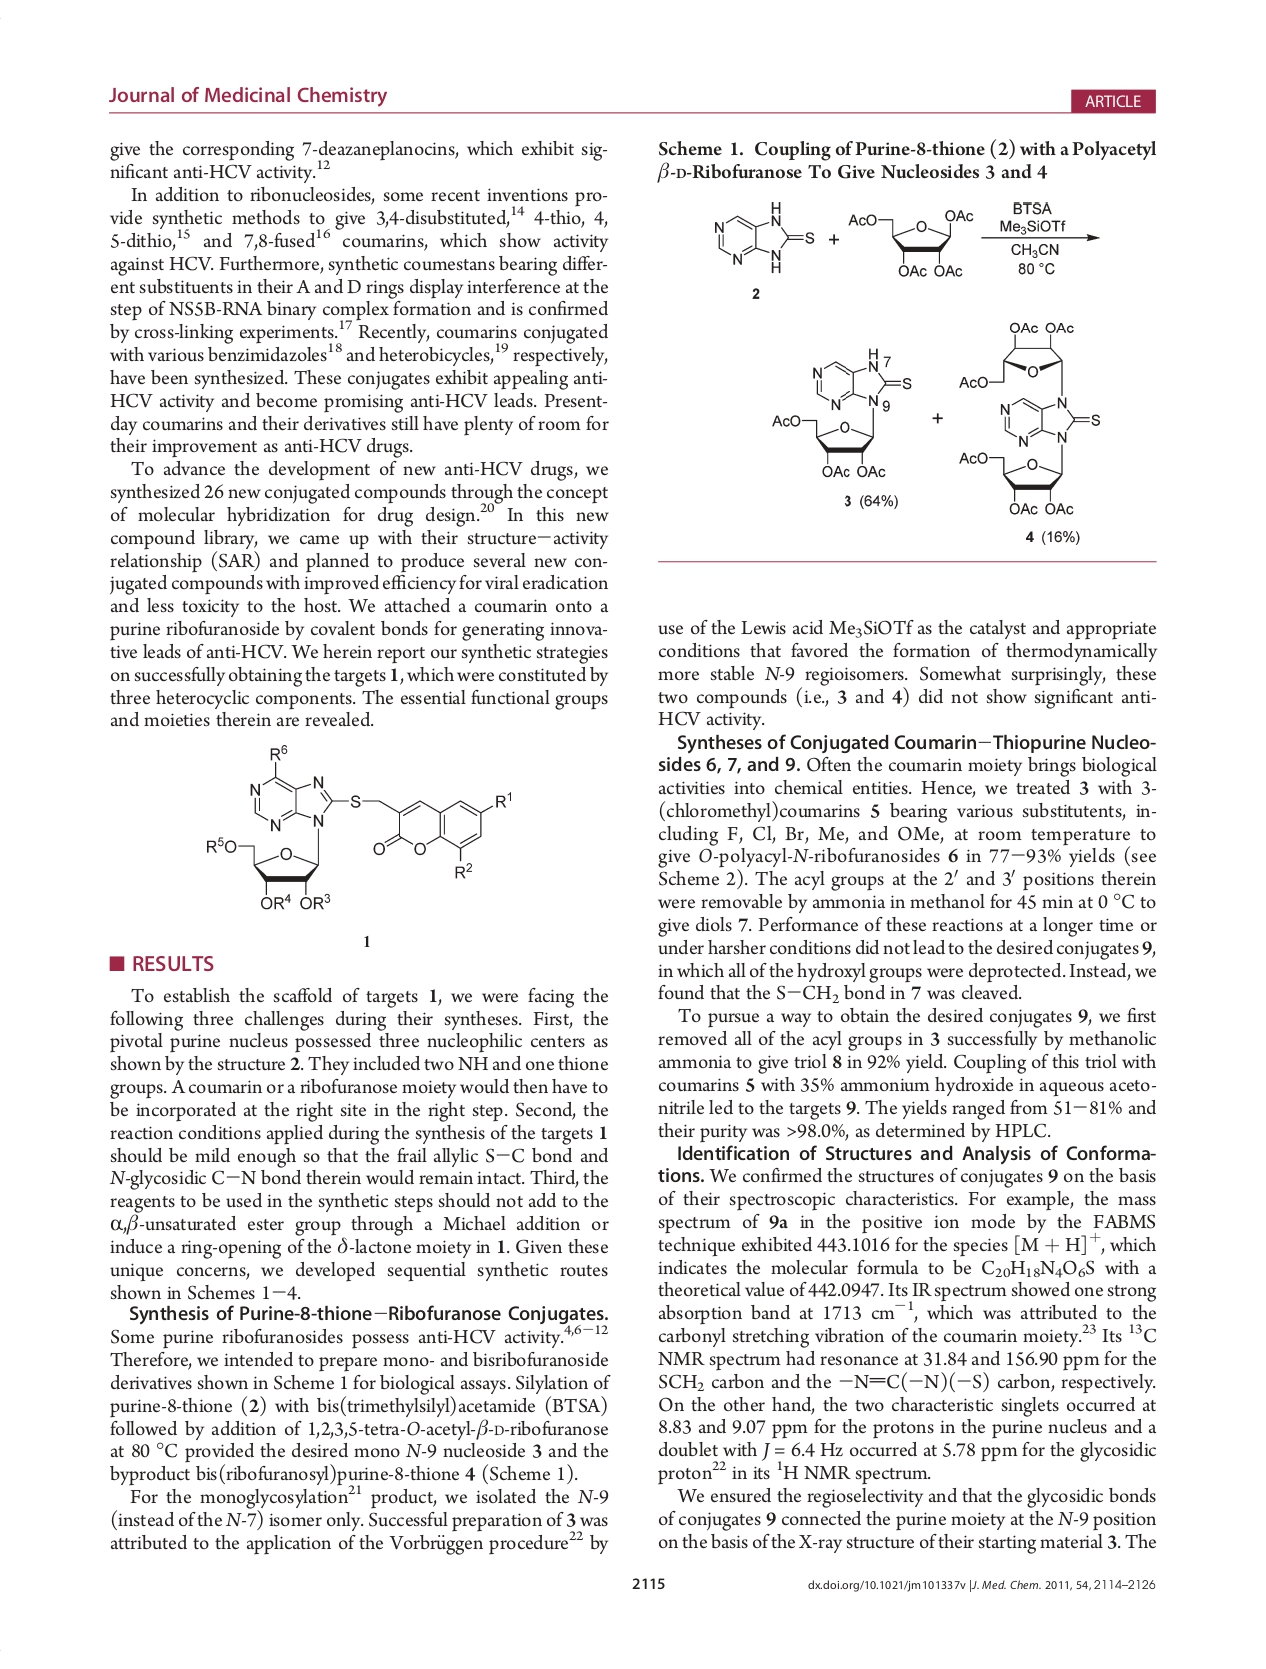exist_molecular: (203, 739, 515, 912), (956, 318, 1102, 517), (769, 344, 914, 480), (842, 210, 976, 278), (709, 195, 815, 278)
